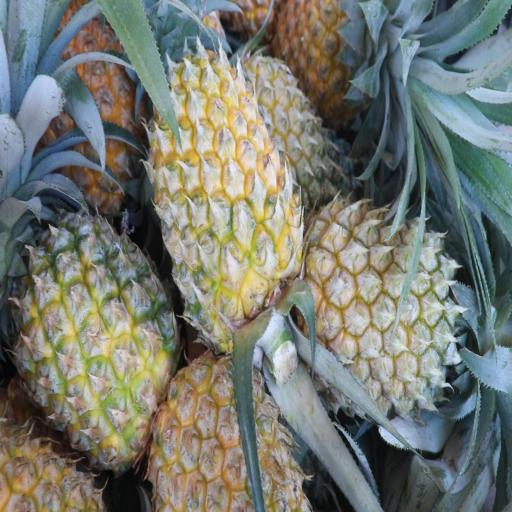------------------------------: (0, 204, 186, 473)
Pineapple - v8 v1: (144, 31, 310, 366), (295, 186, 472, 430), (277, 0, 424, 144)
